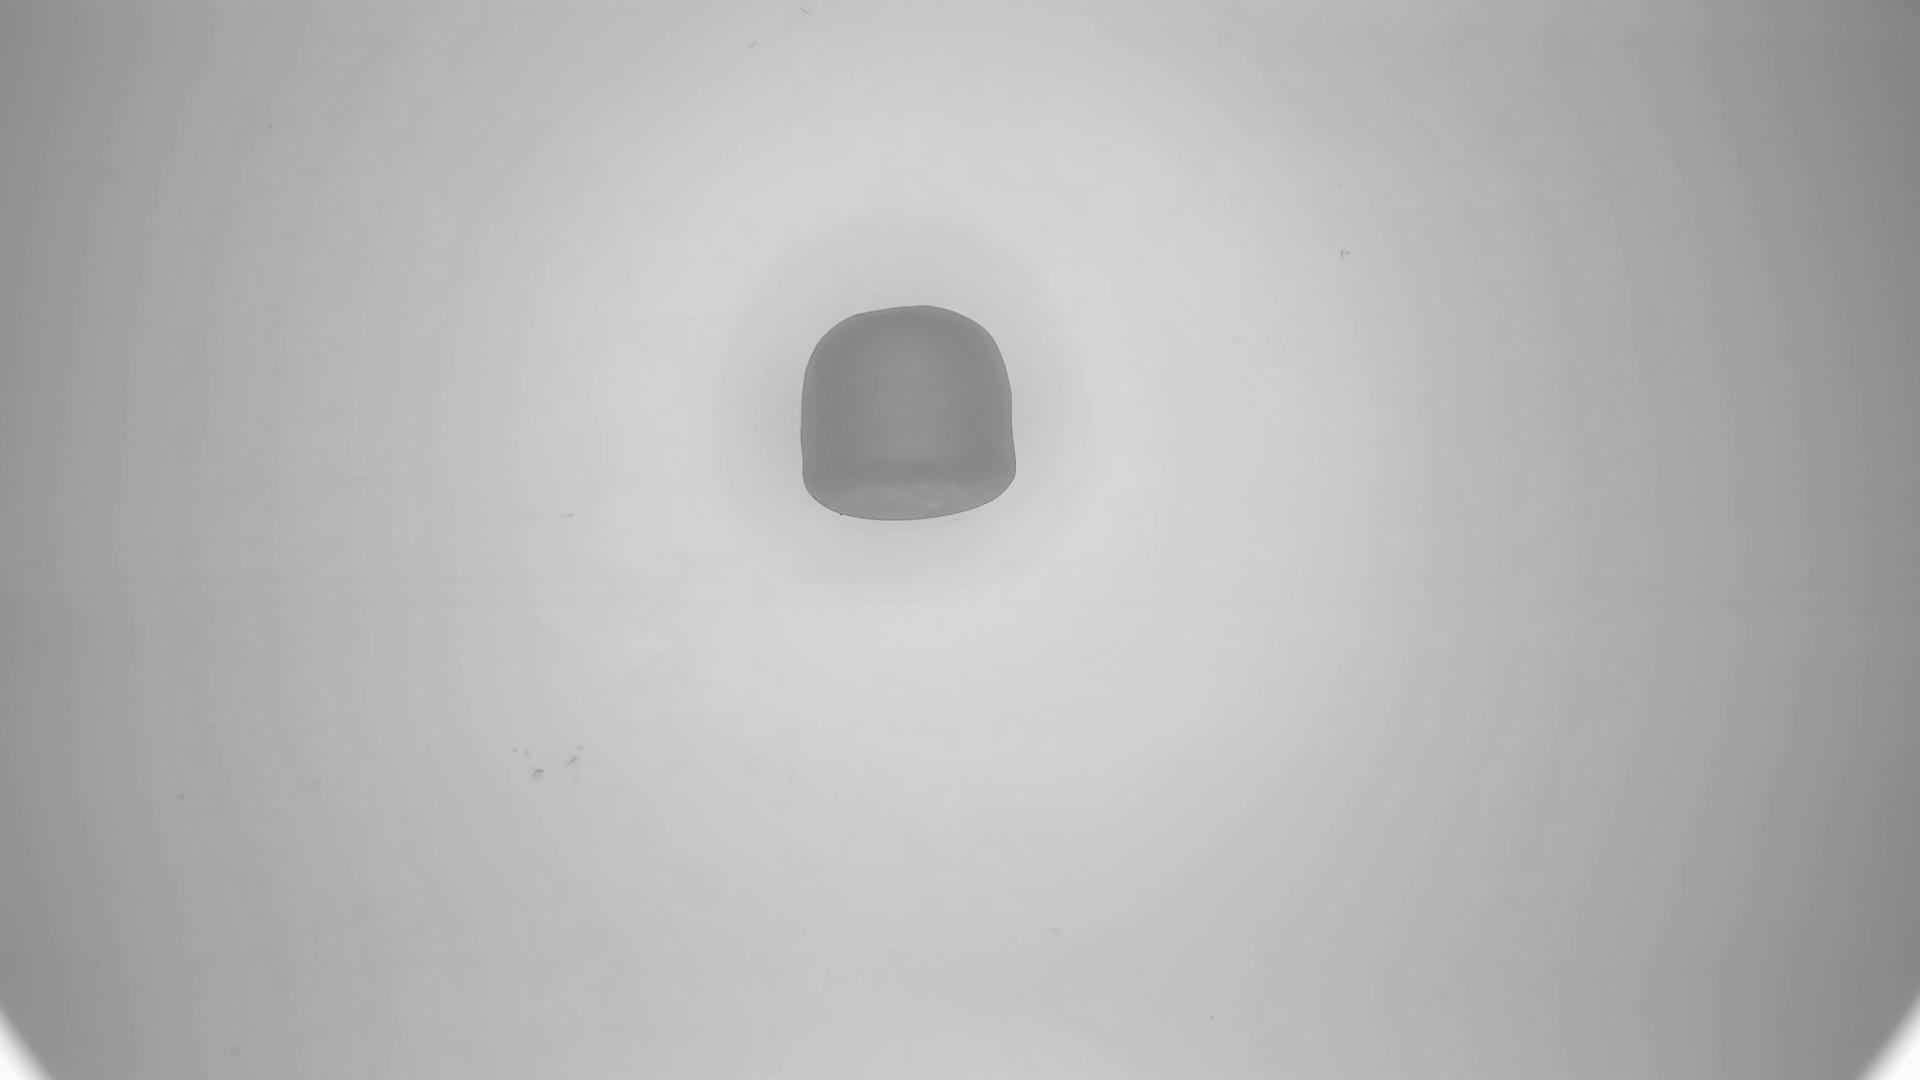normal: (800, 305, 1022, 524)
